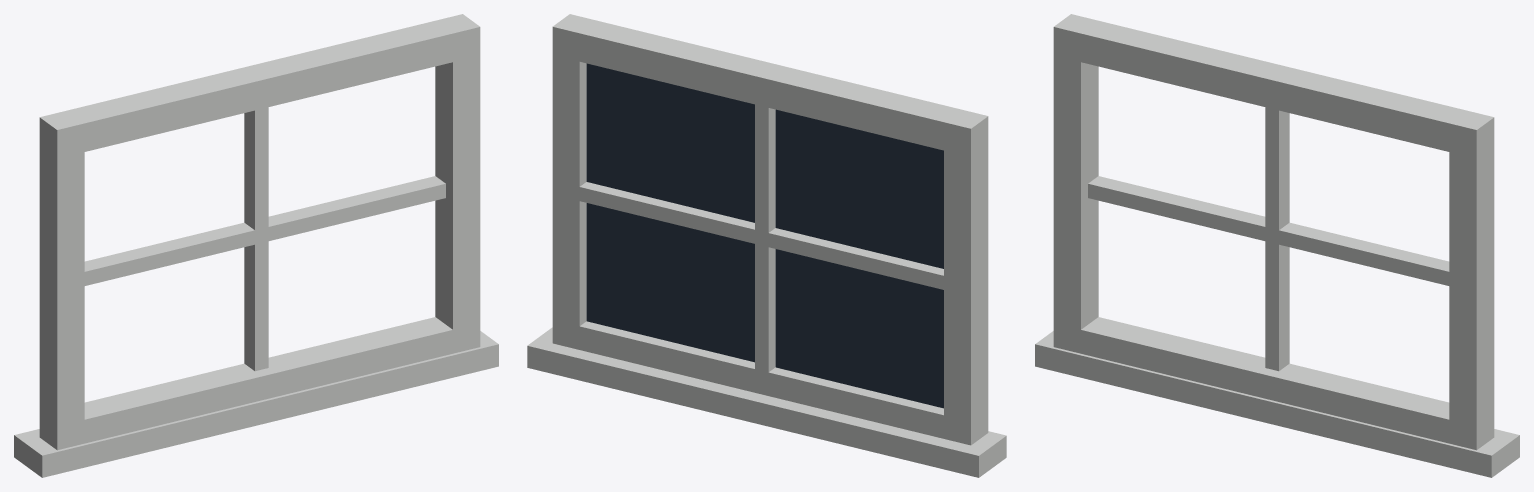
Rendered from WK_WND_WindowDark.glb.
The picture shows the model from 3 angles, left to right: view 1: azimuth 30°, elevation 25°; view 2: azimuth 150°, elevation 25°; view 3: azimuth 330°, elevation 25°; orthographic projection.
Visible parts, largest first — view 1: WK_WND_WindowDark_P04, WK_WND_WindowDark_P03, WK_WND_WindowDark_P01, WK_WND_WindowDark_P02, WK_WND_WindowDark_P05, WK_WND_WindowDark_P08, WK_WND_WindowDark_P07; view 2: WK_WND_WindowDark_P06, WK_WND_WindowDark_P04, WK_WND_WindowDark_P05, WK_WND_WindowDark_P01, WK_WND_WindowDark_P03, WK_WND_WindowDark_P02, WK_WND_WindowDark_P08, WK_WND_WindowDark_P07; view 3: WK_WND_WindowDark_P04, WK_WND_WindowDark_P03, WK_WND_WindowDark_P02, WK_WND_WindowDark_P01, WK_WND_WindowDark_P05, WK_WND_WindowDark_P08, WK_WND_WindowDark_P07.
Part boxes in pixels (left/top/right/bottom): WK_WND_WindowDark_P04: left=40, top=14, right=479, bottom=158; WK_WND_WindowDark_P03: left=84, top=317, right=480, bottom=443; WK_WND_WindowDark_P01: left=39, top=117, right=84, bottom=450; WK_WND_WindowDark_P02: left=435, top=27, right=480, bottom=352; WK_WND_WindowDark_P05: left=14, top=331, right=498, bottom=477; WK_WND_WindowDark_P08: left=84, top=176, right=445, bottom=285; WK_WND_WindowDark_P07: left=244, top=107, right=268, bottom=371; WK_WND_WindowDark_P06: left=586, top=63, right=943, bottom=408; WK_WND_WindowDark_P04: left=552, top=14, right=987, bottom=156; WK_WND_WindowDark_P05: left=527, top=327, right=1006, bottom=477; WK_WND_WindowDark_P01: left=944, top=116, right=988, bottom=445; WK_WND_WindowDark_P03: left=552, top=320, right=970, bottom=445; WK_WND_WindowDark_P02: left=552, top=27, right=586, bottom=349; WK_WND_WindowDark_P08: left=579, top=182, right=943, bottom=289; WK_WND_WindowDark_P07: left=755, top=103, right=775, bottom=373; WK_WND_WindowDark_P04: left=1054, top=14, right=1493, bottom=157; WK_WND_WindowDark_P03: left=1053, top=317, right=1449, bottom=443; WK_WND_WindowDark_P02: left=1449, top=117, right=1494, bottom=450; WK_WND_WindowDark_P01: left=1053, top=27, right=1098, bottom=353; WK_WND_WindowDark_P05: left=1035, top=331, right=1519, bottom=477; WK_WND_WindowDark_P08: left=1088, top=176, right=1449, bottom=285; WK_WND_WindowDark_P07: left=1265, top=107, right=1289, bottom=371.
Size of the model in its own units: 1.5 by 1.08 by 0.16.
